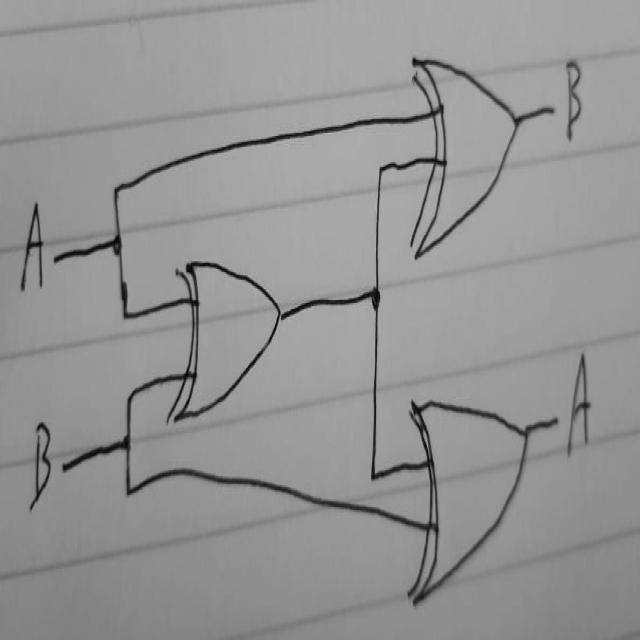XOR: (401, 363, 541, 615), (402, 27, 530, 264), (165, 232, 291, 431)
